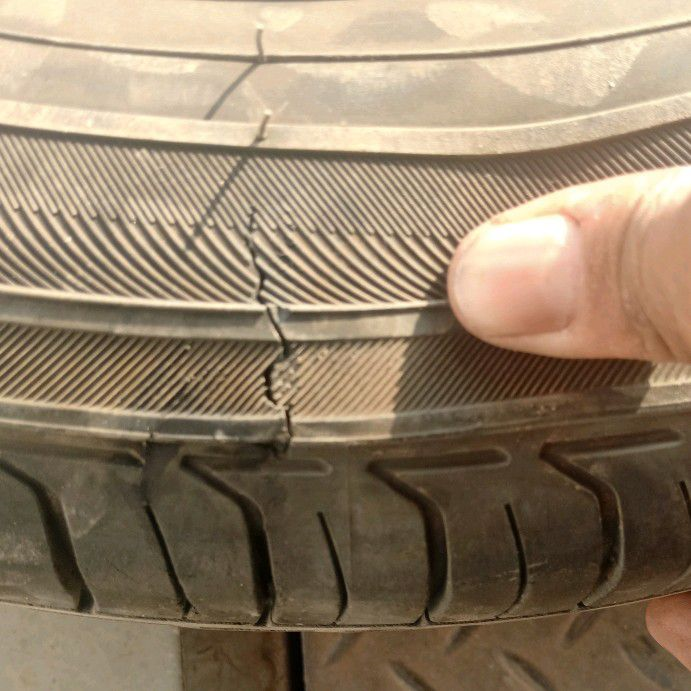cut: (245, 204, 296, 450)
